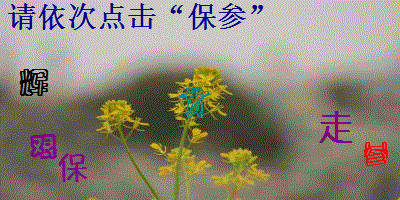result: (186, 2, 249, 32)
text: (316, 109, 356, 147), (178, 85, 210, 119), (16, 67, 51, 97), (57, 153, 88, 185), (28, 131, 59, 161), (363, 140, 392, 168)
